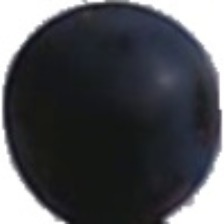grapes: (50, 32, 200, 175)
